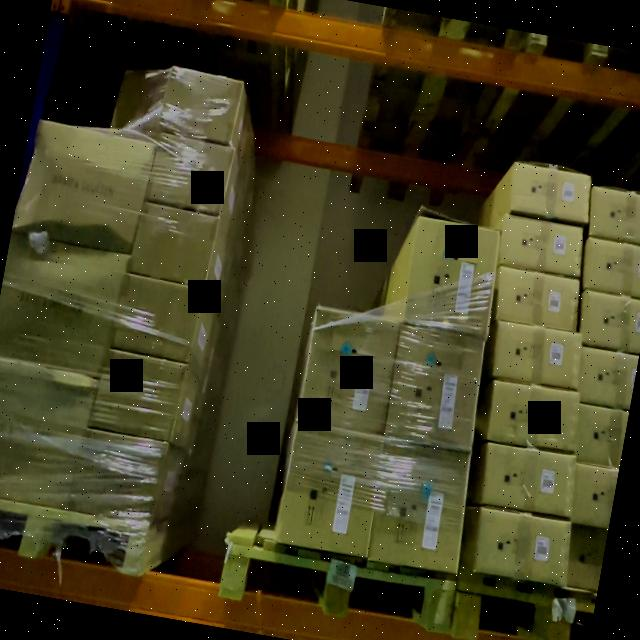box: (276, 424, 385, 552), (298, 308, 400, 434), (369, 444, 469, 572), (386, 328, 482, 444), (404, 218, 500, 330), (94, 356, 184, 436), (112, 277, 200, 357), (472, 510, 571, 578), (480, 446, 577, 514), (132, 204, 214, 283), (77, 439, 160, 516), (150, 134, 230, 212), (162, 66, 242, 142), (487, 382, 579, 448), (492, 324, 582, 386), (502, 215, 582, 275), (497, 272, 580, 328), (510, 165, 590, 219)
